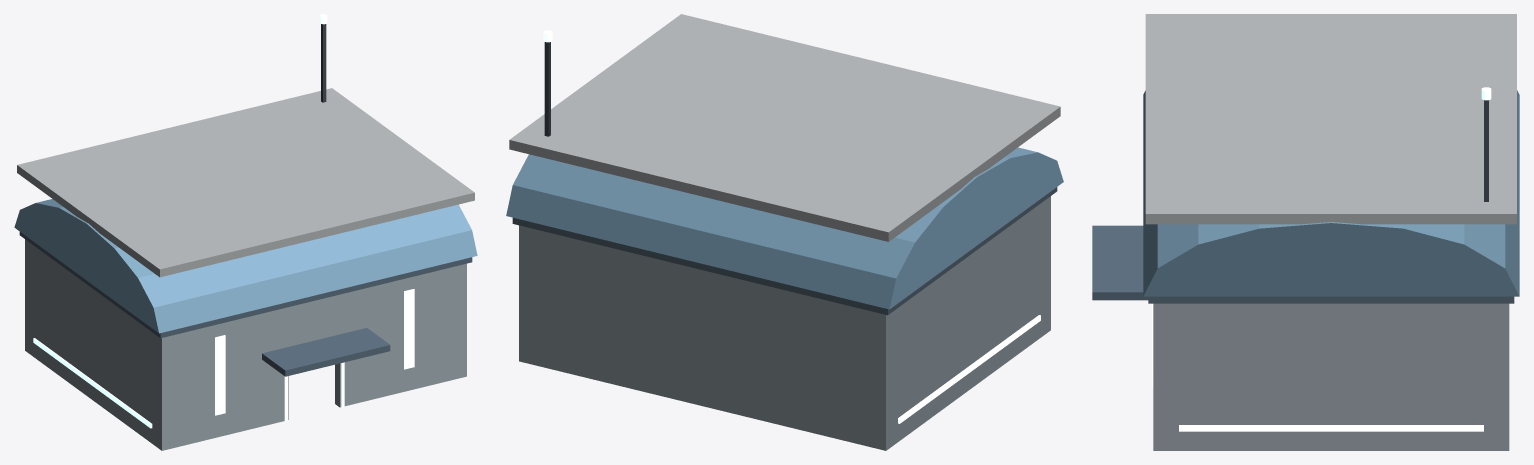
The model's file is shaddai_dist_arctic_b3_v01.glb.
3 renders of one model, left to right at view 1: azimuth 30°, elevation 25°; view 2: azimuth 150°, elevation 25°; view 3: azimuth 270°, elevation 25°, orthographic. The views are drawn at different scales.
Parts seen in each view (by area): view 1: shaddai_dist_arctic_b3; view 2: shaddai_dist_arctic_b3; view 3: shaddai_dist_arctic_b3.
Part boxes in pixels (x1,y1,x2,y2): shaddai_dist_arctic_b3: (14,14,477,450); shaddai_dist_arctic_b3: (506,14,1063,450); shaddai_dist_arctic_b3: (1092,14,1519,450).
Size of the model in its own units: 18.8 by 15.28 by 16.8.
